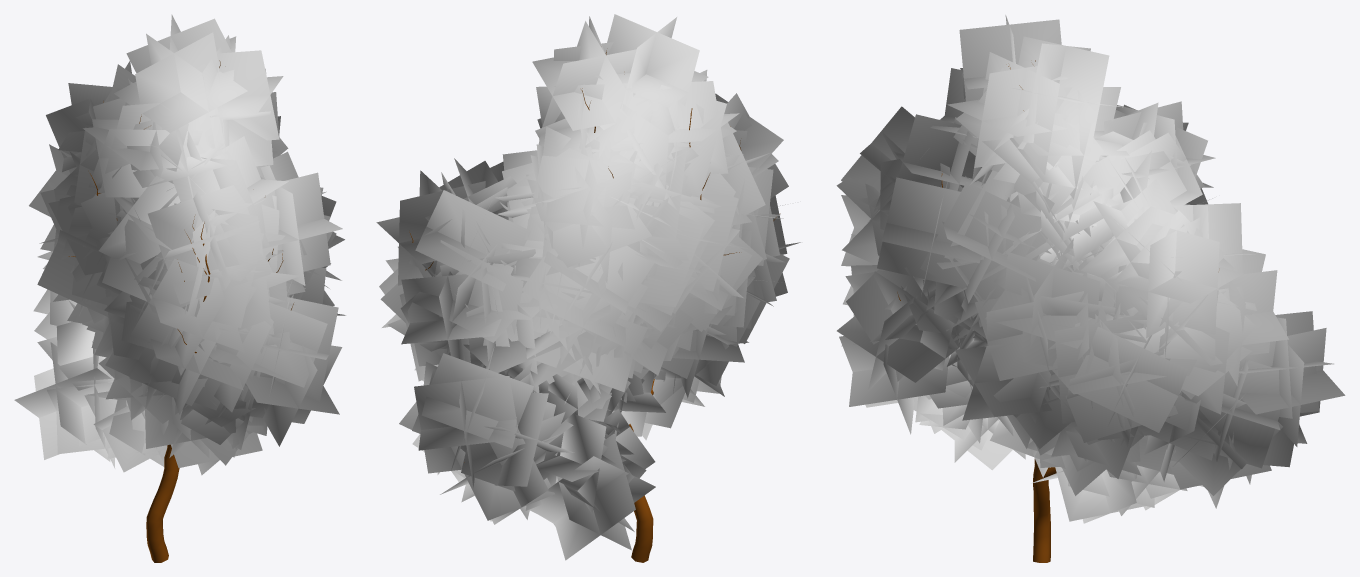
Rendered from tree1_LOD0.fbx.
3 views of the same model, side by side, from view 1: azimuth 30°, elevation 25°; view 2: azimuth 150°, elevation 25°; view 3: azimuth 270°, elevation 25° (orthographic). The views are drawn at different scales.
Parts seen in each view (by area): view 1: transform1; view 2: transform1; view 3: transform1.
Part boxes in pixels (<box>): transform1: <box>14,14,345,562</box>; transform1: <box>376,14,800,562</box>; transform1: <box>836,15,1345,562</box>.
Size of the model in its own units: 470 by 719 by 606.
